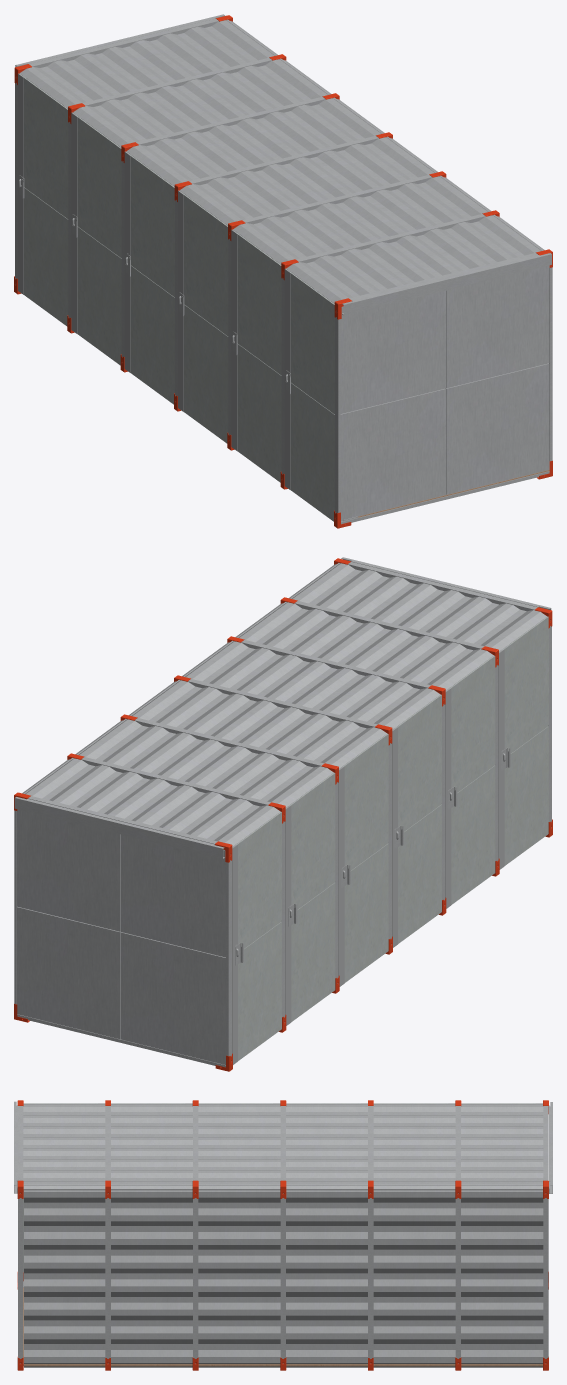
File: 12S6_closed.glb
3 renders of one model, top to bottom at view 1: azimuth 30°, elevation 25°; view 2: azimuth 150°, elevation 25°; view 3: azimuth 270°, elevation 25°, orthographic. The views are drawn at different scales.
Visible parts, largest first — view 1: doorsMarged, celing, Cube.001, frontRim, gutter, corners, back, gutter.001; view 2: doorsMarged, celing, Cube, frontRim, gutter.001, corners, back, gutter; view 3: back, celing, frontRim, corners, floor.002, doorsMarged, gutter, gutter.001.
Part boxes in pixels (x1,y1,x2,y2): doorsMarged: (18, 73, 334, 521); celing: (20, 20, 544, 303); Cube.001: (340, 265, 549, 521); frontRim: (15, 18, 552, 524); gutter: (341, 253, 551, 315); corners: (14, 15, 552, 528); back: (227, 19, 543, 250); gutter.001: (15, 14, 225, 66); doorsMarged: (232, 616, 548, 1064); celing: (22, 563, 546, 846); Cube: (17, 809, 225, 1064); frontRim: (14, 562, 551, 1067); gutter.001: (14, 797, 225, 859); corners: (14, 558, 552, 1071); back: (23, 563, 340, 793); gutter: (341, 557, 551, 609); back: (24, 1184, 543, 1367); celing: (23, 1104, 543, 1190); frontRim: (18, 1106, 548, 1363); corners: (17, 1100, 548, 1370); floor.002: (23, 1287, 542, 1366); doorsMarged: (23, 1103, 542, 1280); gutter: (14, 1101, 17, 1193); gutter.001: (549, 1102, 552, 1193).
Bounding box in the file's own units: 23.45 × 23.06 × 61.09.
8 materials, 7 textured.
